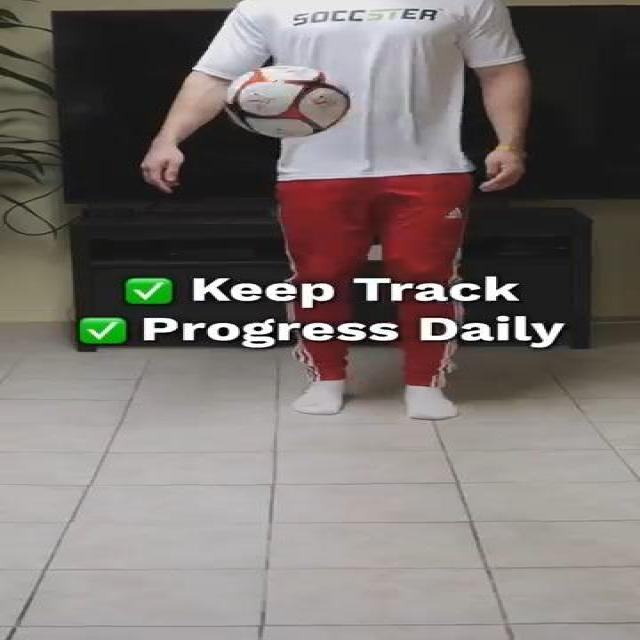Soccer Ball: (220, 64, 358, 138)
